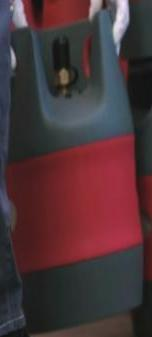cylinder: (1, 1, 152, 337)
